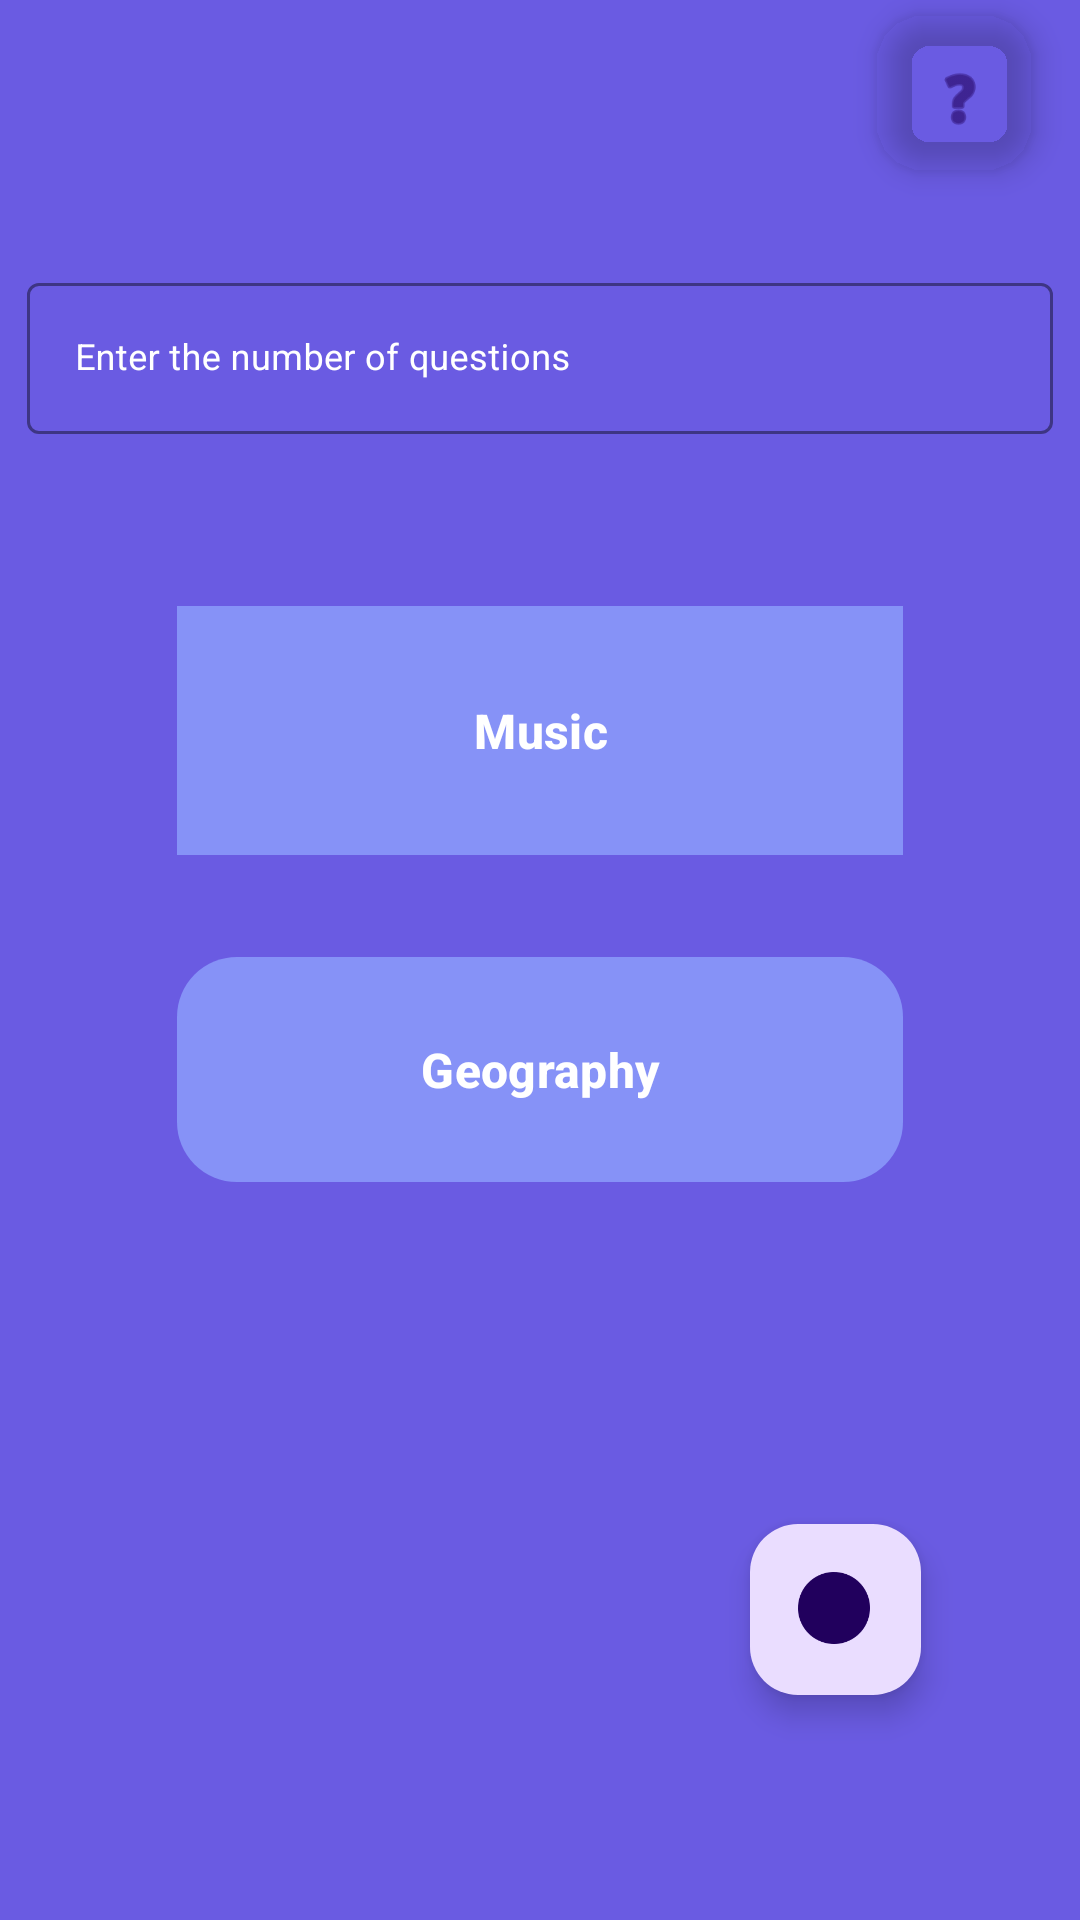

Icon click points for this 1080px×1920px phone screenshot, format [x,y]:
help: [960,99]
